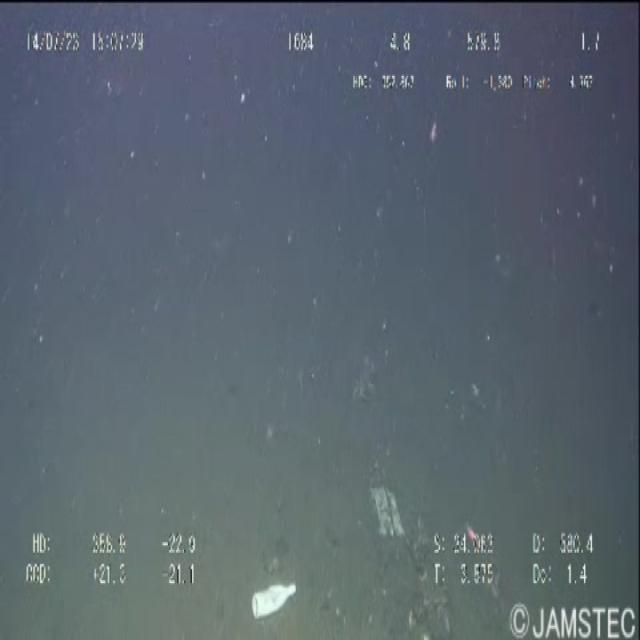Glass: (237, 567, 313, 630)
Litter: (362, 478, 418, 553)
